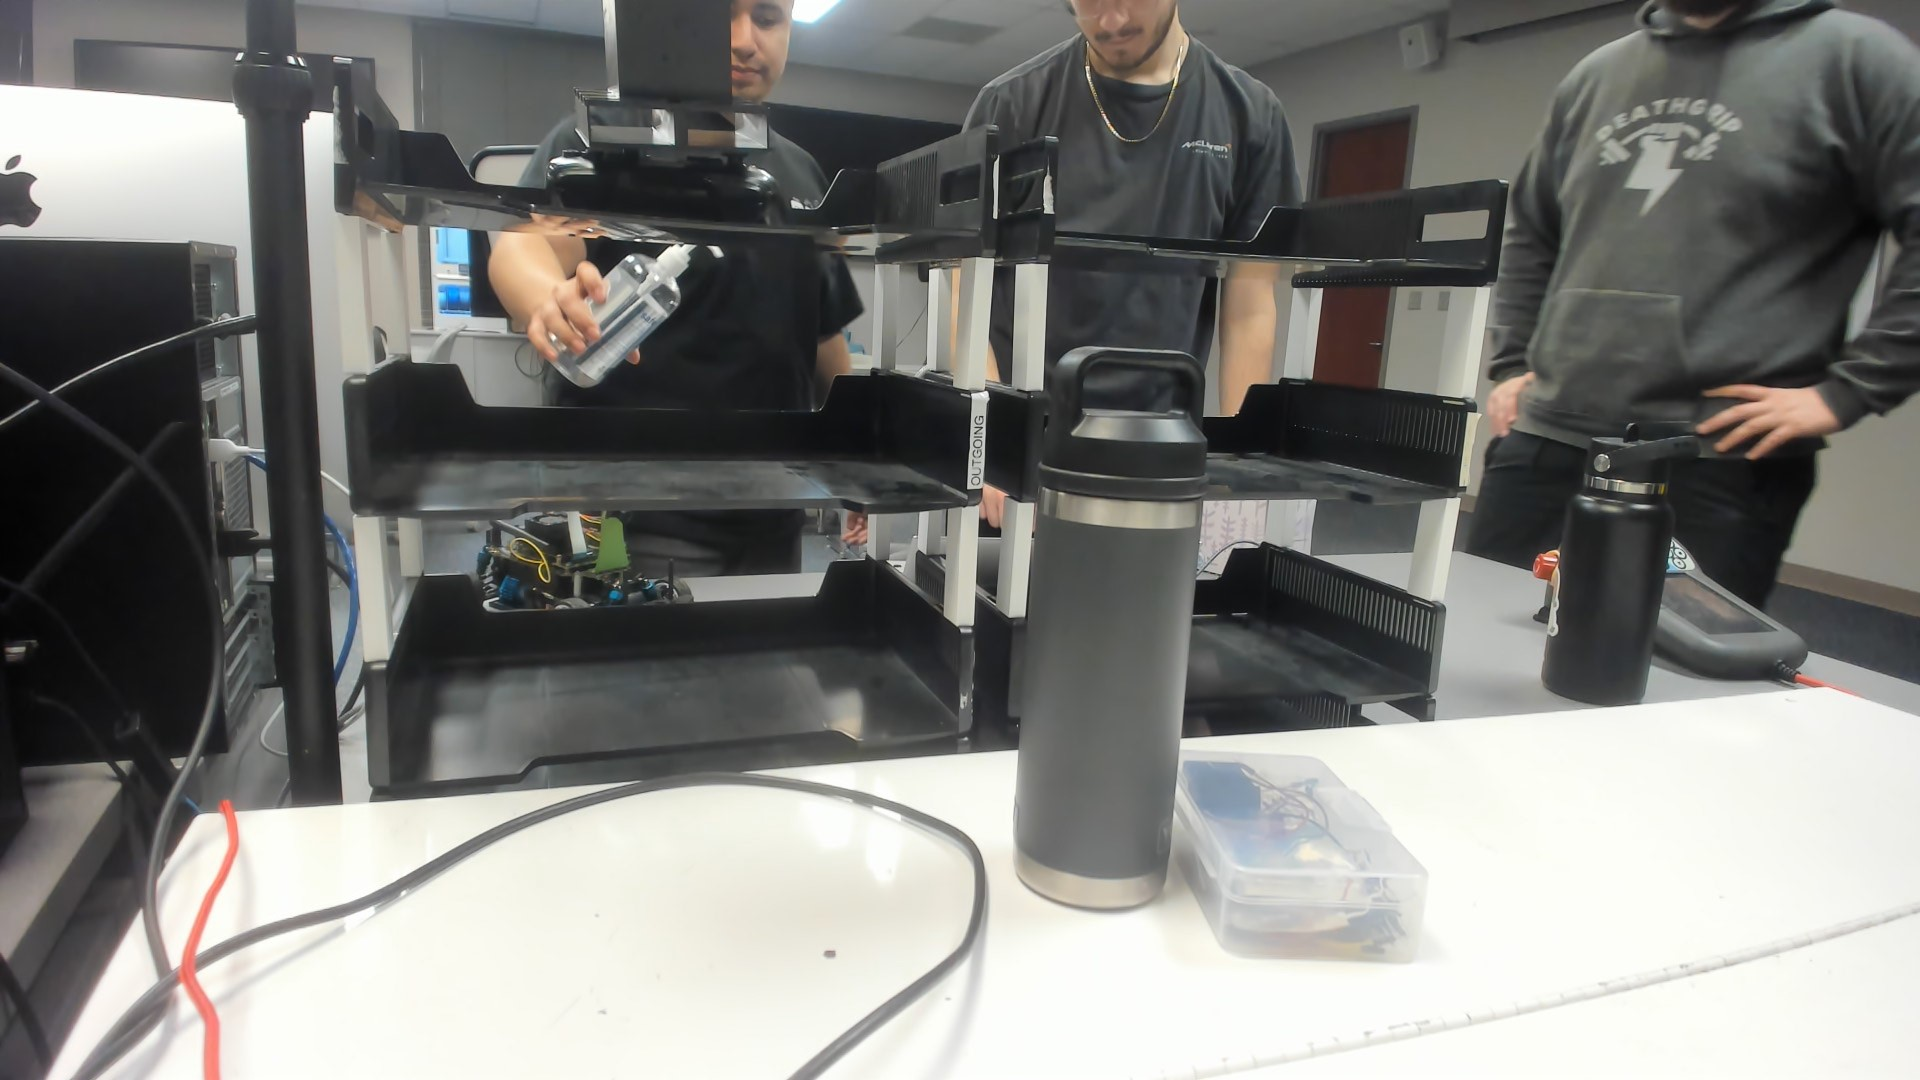black pallet: (566, 1, 785, 162)
